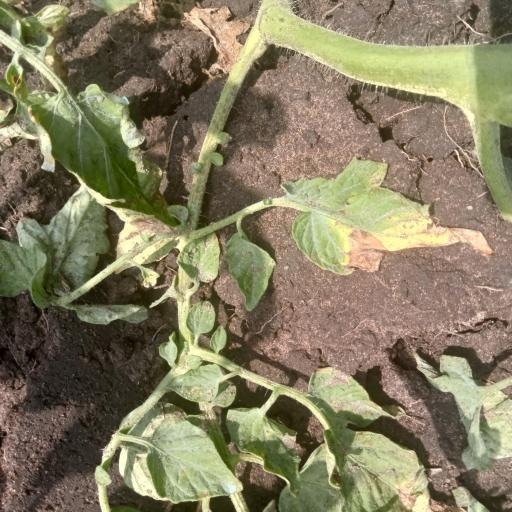Tomato_Brown_Spots: (278, 151, 498, 283)
